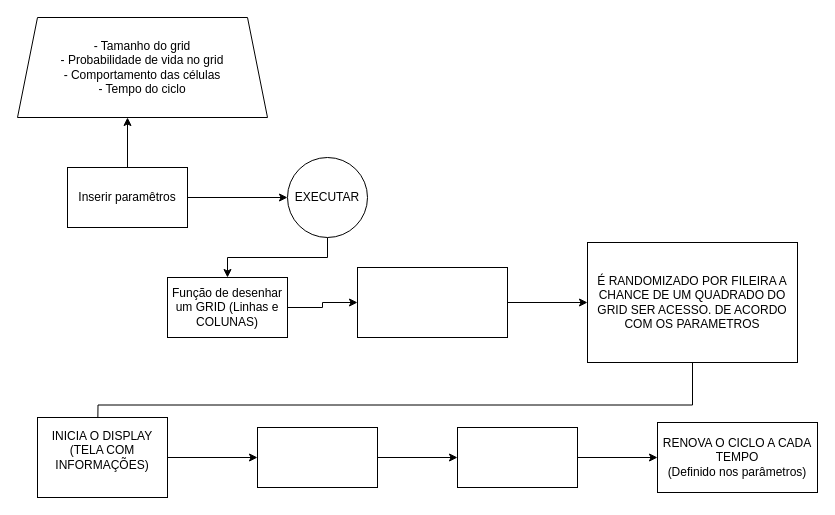
This 835x515 diagram has some shape labels left out. Here are the shapes that lost their labels. From the top down, the box of each, then its label:
(356, 266, 508, 338): GERADA LISTA VAZIA COM OS PARAMÊ TROS DEFINIDOS
(256, 426, 378, 488): É DEFINIDO AS CÉLULAS INICIAIS NO DISPLAY
(456, 426, 578, 488): OS VIZINHOS SE COMPORTAM DA FORMA DEFINIDA
